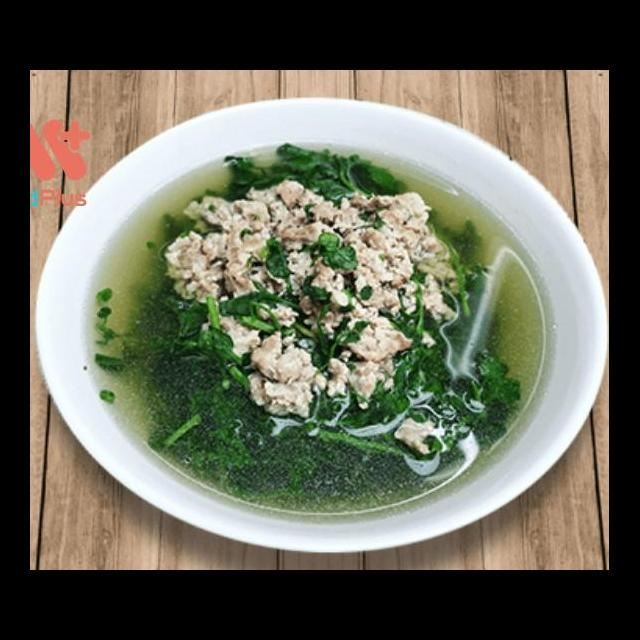thit bam: (158, 172, 470, 423)
